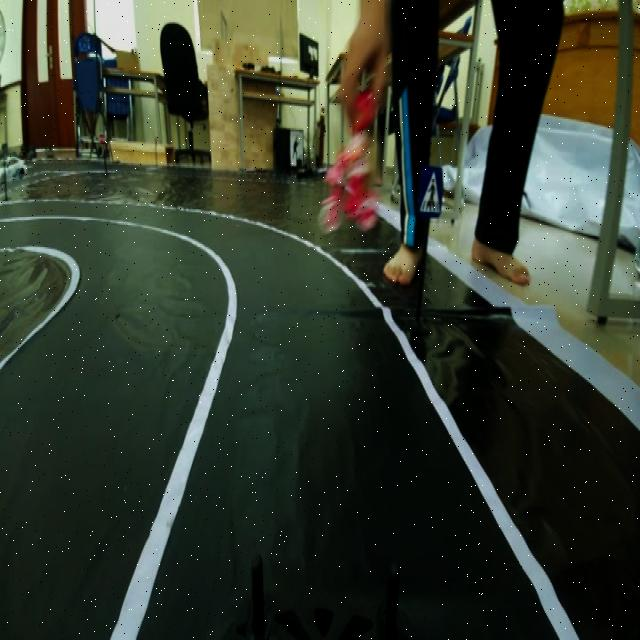crosswalk: (415, 165, 445, 222)
